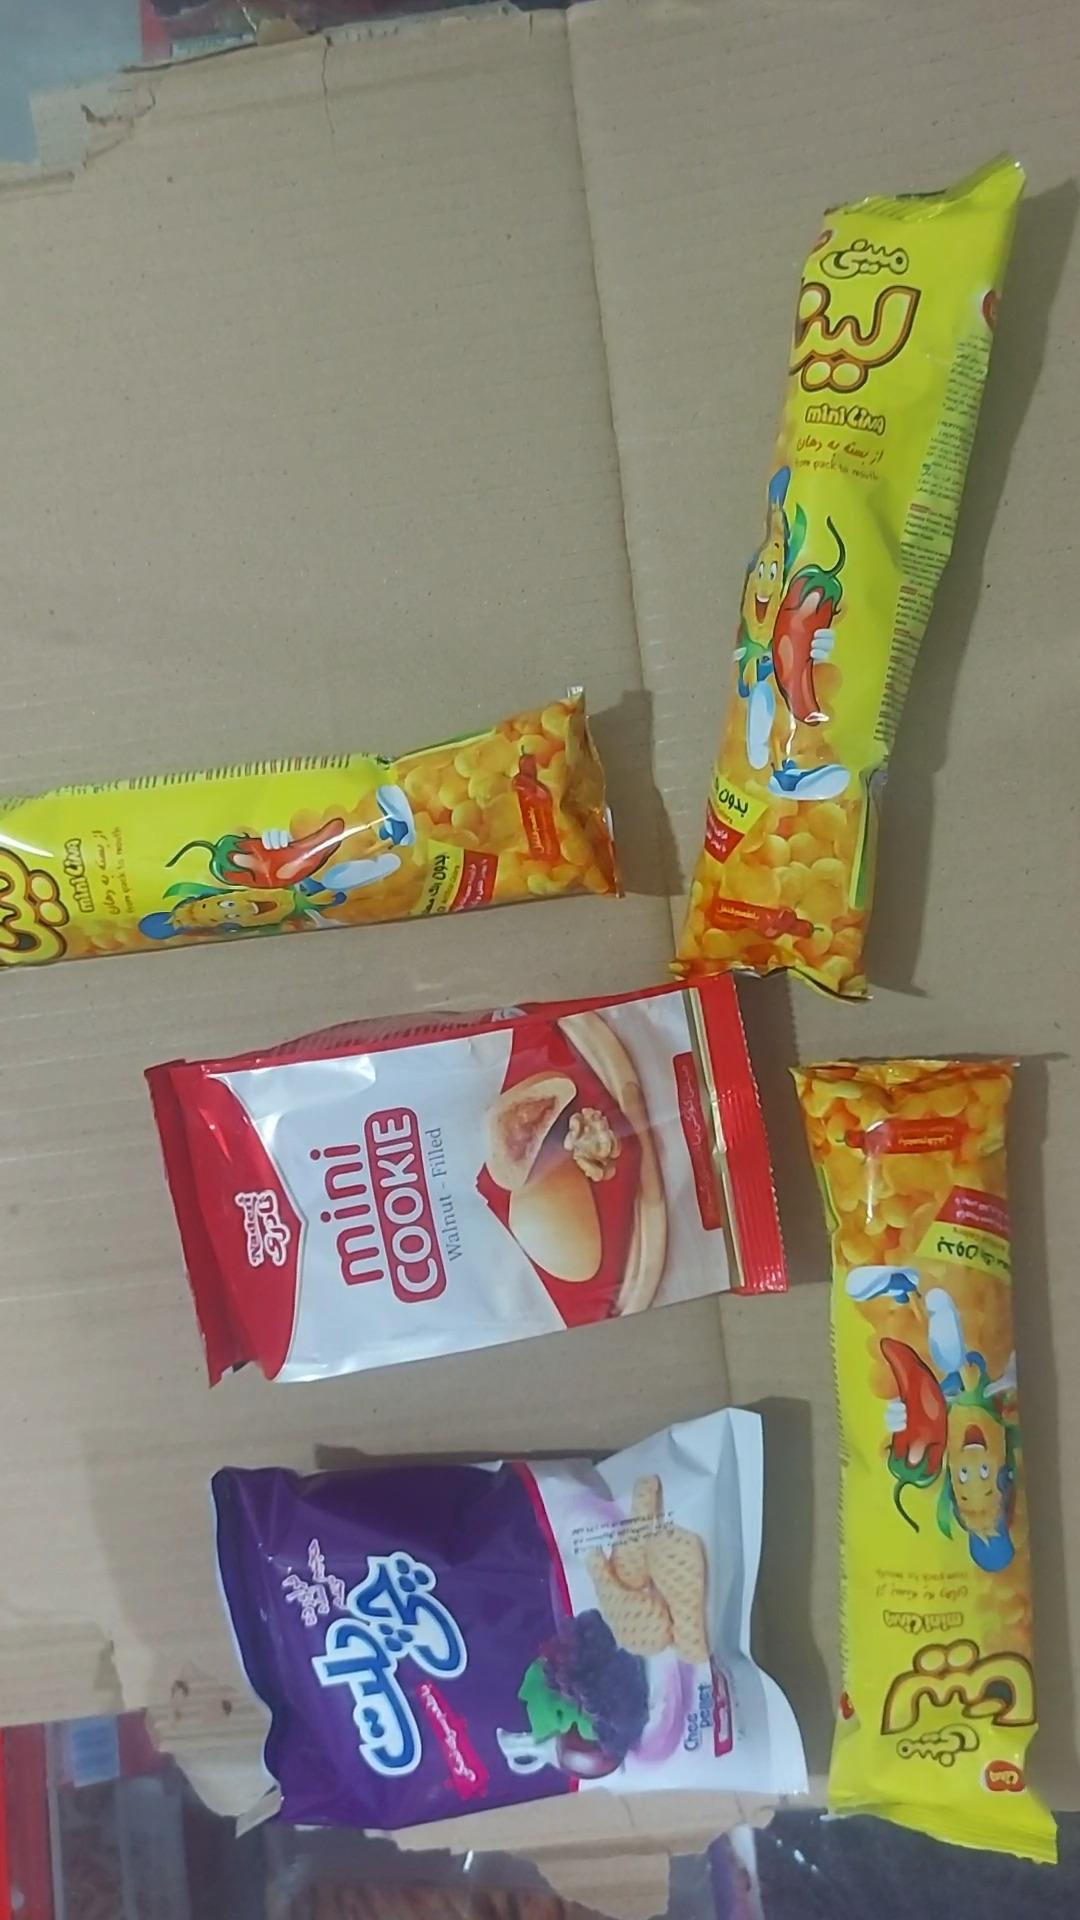Chee pellet vinegar: (208, 1408, 808, 1833)
Mini Lina: (673, 158, 1029, 1005), (790, 1059, 1059, 1869), (0, 686, 622, 968)
Naderi mini cookie: (144, 976, 791, 1389)
